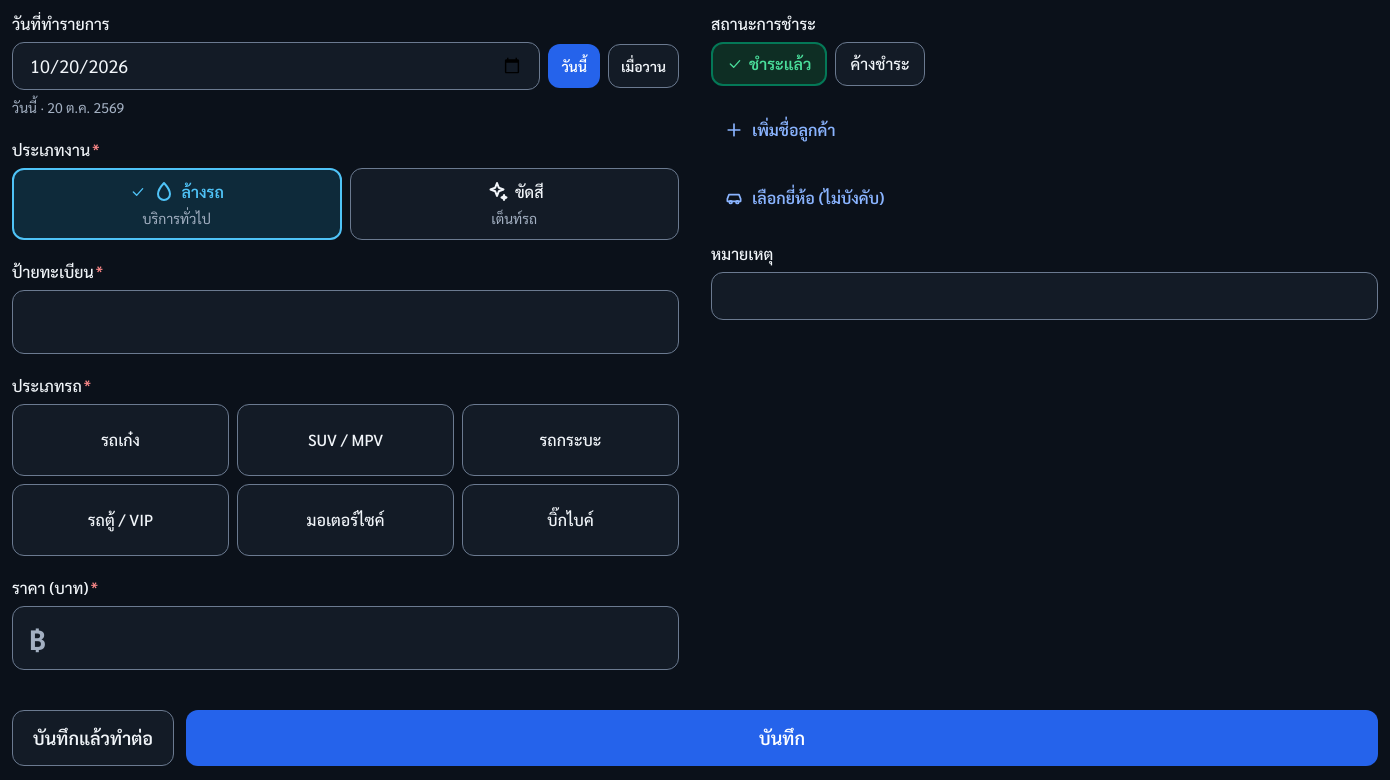
Test: IncomeEditor › saves one record and goes to the dashboard with a toast (AC-04-1)
Type "กข 1234" into the field labelled "ป้ายทะเบียน*" at (346, 322), box 29,291 -> 662,353
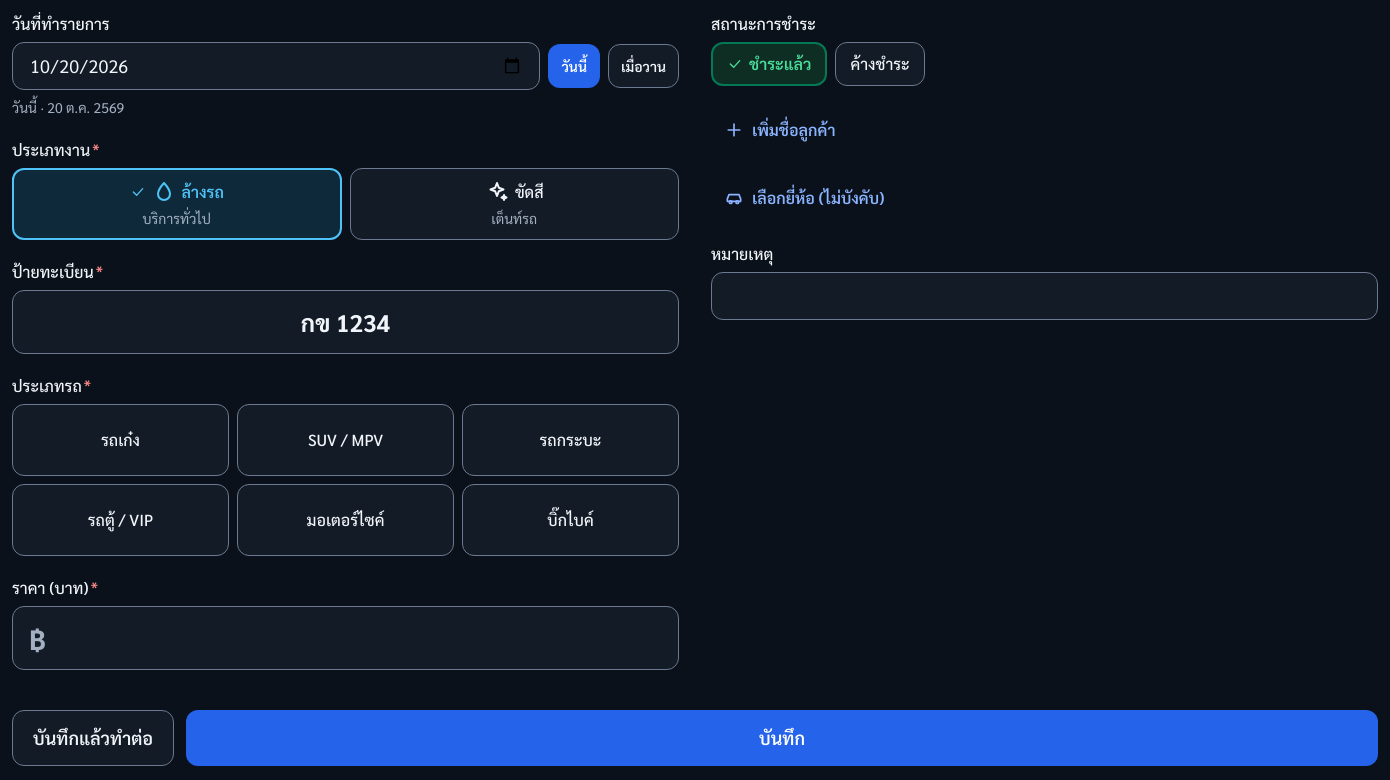
Click the radio button labelled "รถเก๋ง" at (120, 440), box 12,404 -> 229,476
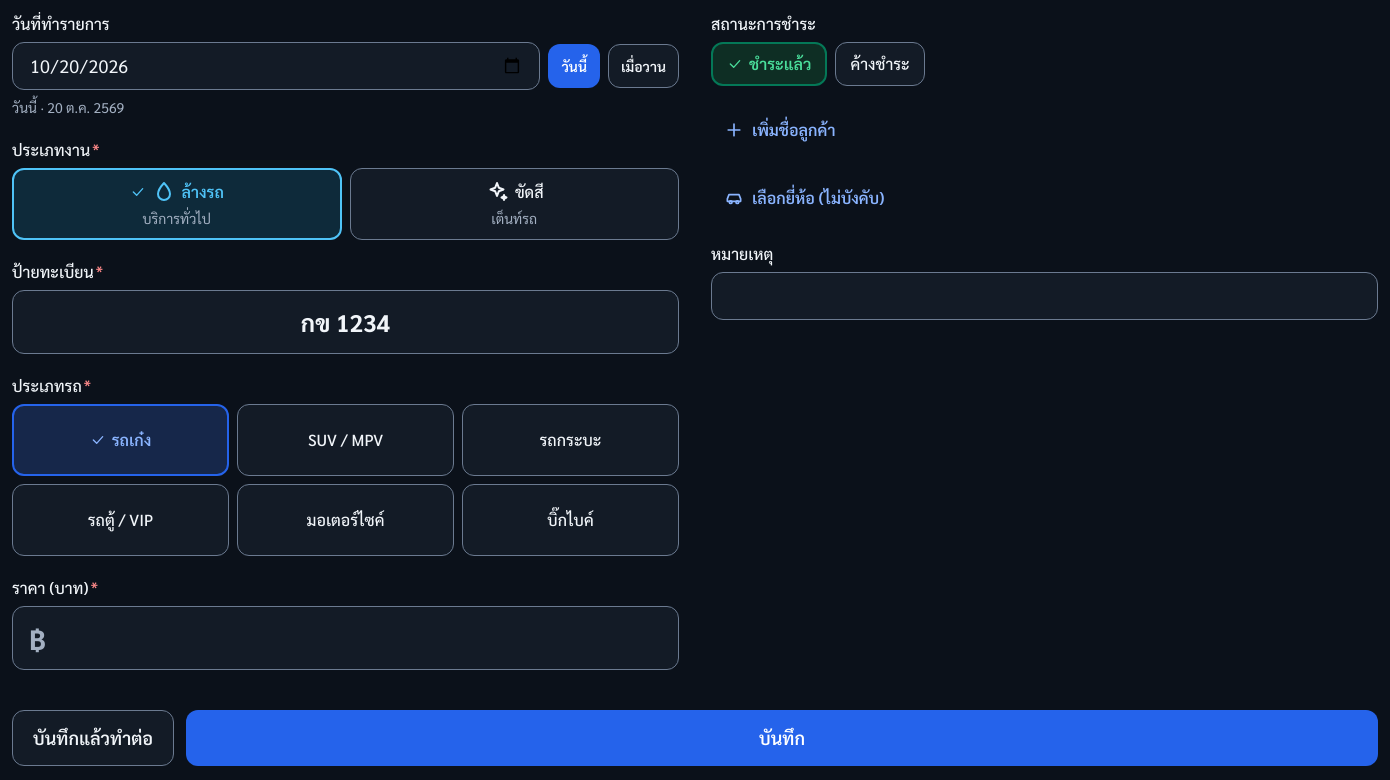
Type "150" into the field labelled "ราคา (บาท)*" at (358, 638), box 54,607 -> 662,669
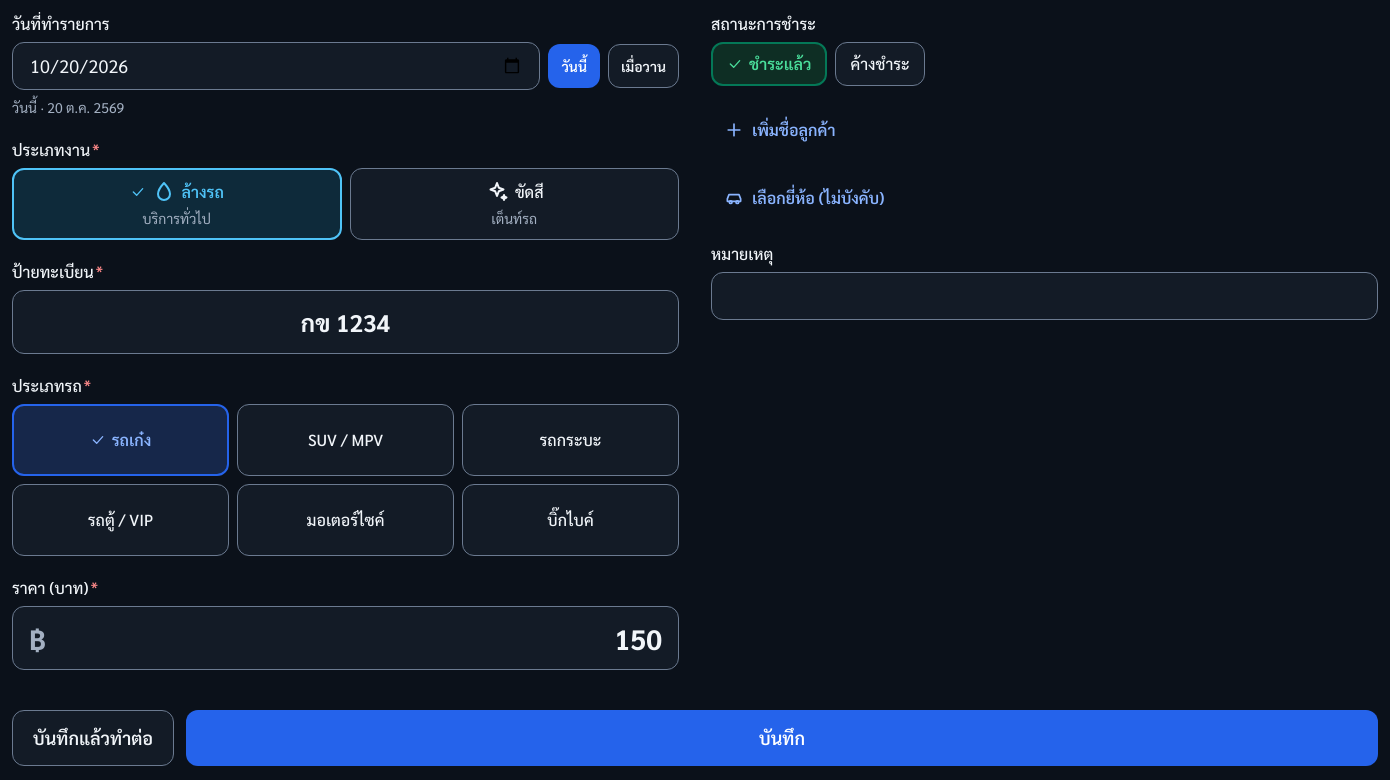
Click the button "บันทึก" at (782, 738), box 186,710 -> 1378,766
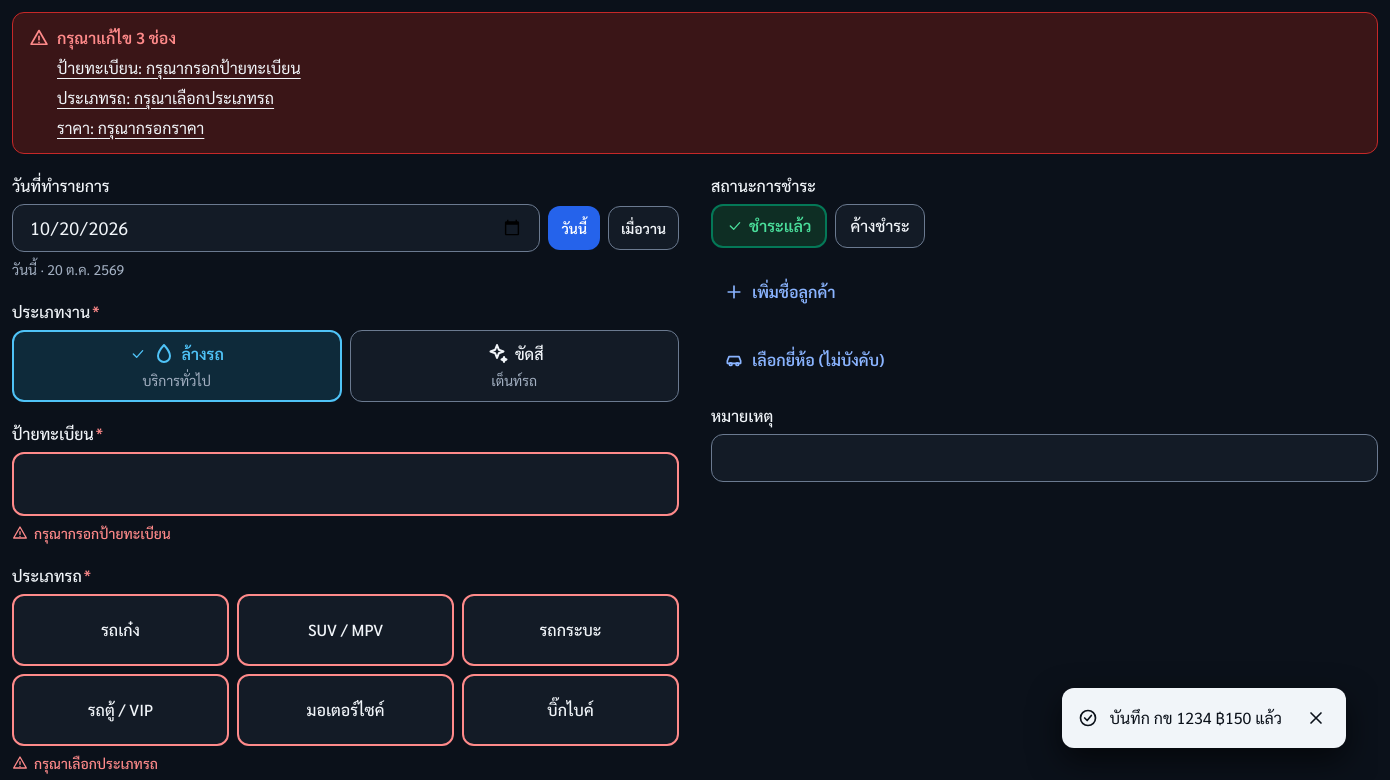
Expected: the message "บันทึก กข 1234 ฿150 แล้ว" is shown, 1062,688 -> 1346,748
